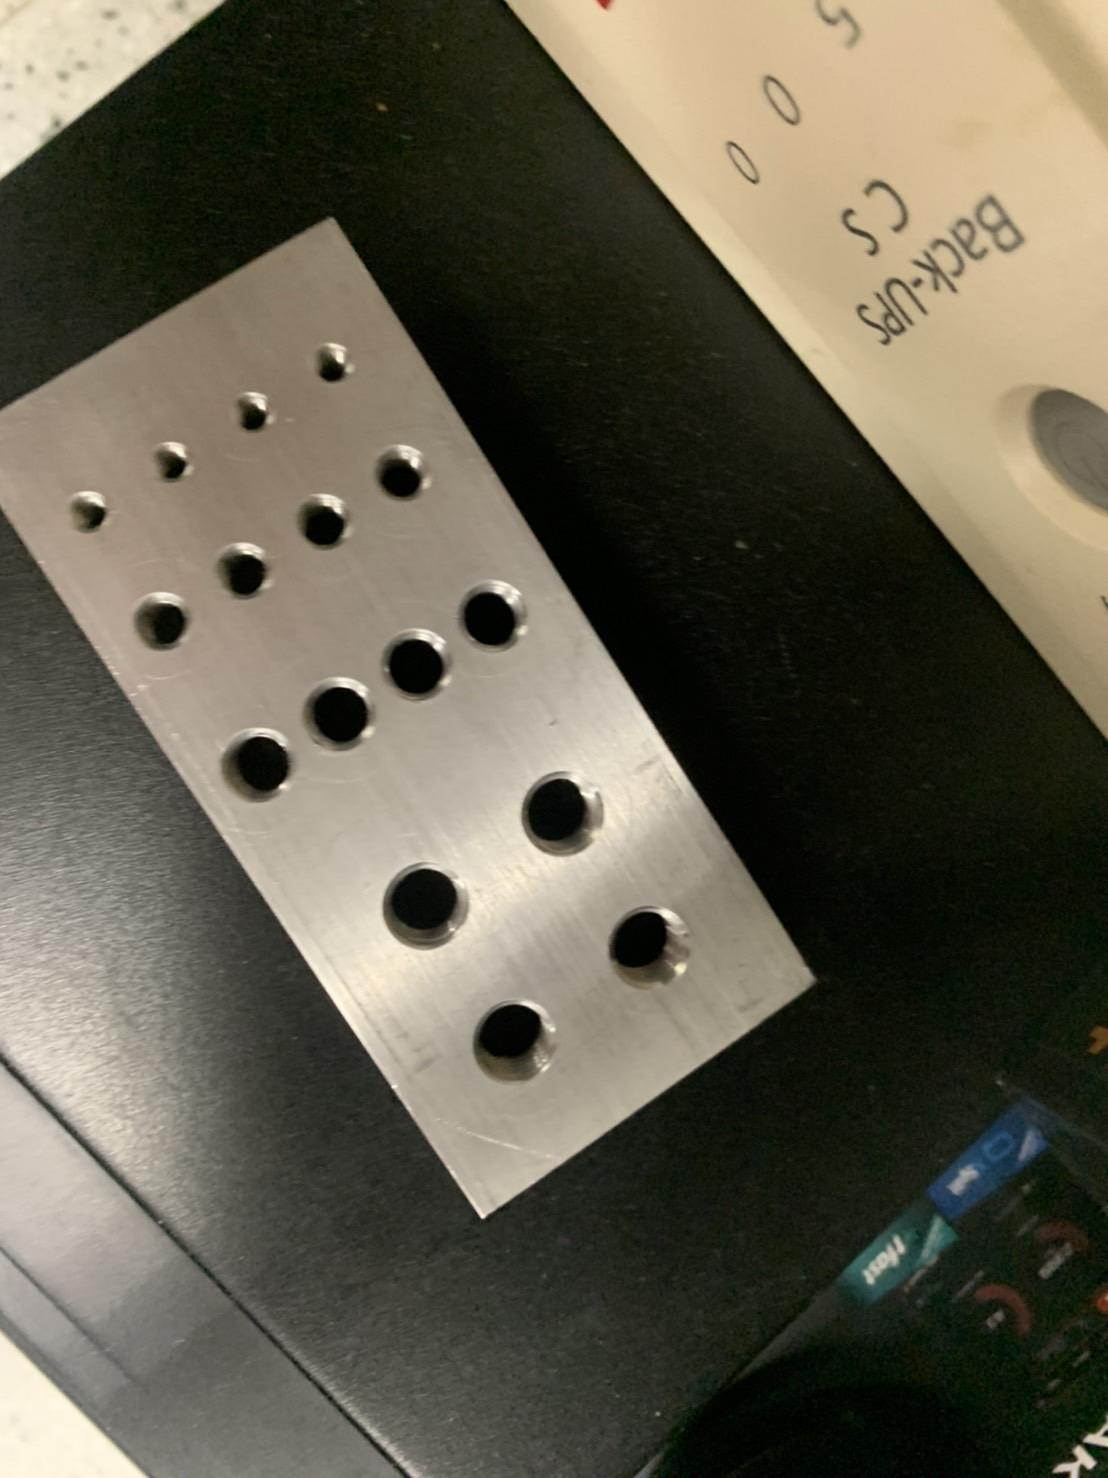hole: (468, 997, 562, 1089), (376, 865, 470, 955), (606, 902, 695, 992), (519, 768, 606, 859), (208, 736, 296, 817), (378, 627, 457, 706), (298, 675, 376, 753), (462, 576, 533, 656), (132, 594, 199, 668), (211, 540, 274, 604), (368, 445, 433, 504), (293, 493, 356, 552), (147, 432, 200, 496), (57, 490, 113, 541), (301, 340, 357, 391), (222, 392, 278, 440)
